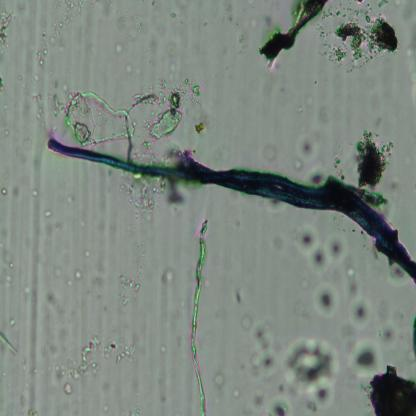Background material: (66, 72, 202, 151), (318, 5, 404, 76), (257, 0, 326, 71), (279, 332, 342, 408), (289, 221, 350, 280), (34, 0, 86, 67), (348, 121, 393, 197), (70, 334, 138, 382), (363, 363, 416, 416), (27, 204, 40, 407), (242, 315, 276, 383), (119, 170, 164, 218), (115, 9, 148, 56), (350, 338, 382, 382), (115, 267, 145, 308), (312, 283, 342, 318), (346, 297, 376, 329), (36, 290, 66, 321), (0, 5, 15, 57), (0, 321, 19, 358), (30, 89, 46, 131), (45, 332, 67, 362), (166, 176, 186, 209), (46, 87, 64, 122), (404, 42, 416, 93), (376, 321, 398, 348), (213, 0, 237, 24), (258, 138, 280, 163), (269, 397, 296, 416), (2, 250, 15, 288), (163, 44, 179, 70), (319, 101, 336, 125), (301, 134, 315, 162), (236, 30, 250, 57), (66, 268, 82, 289), (409, 309, 416, 355), (128, 390, 140, 416), (307, 170, 329, 184), (192, 119, 209, 137), (53, 361, 67, 382), (266, 198, 284, 214), (251, 388, 263, 410), (161, 266, 173, 288), (176, 0, 193, 14), (305, 90, 316, 110), (389, 179, 401, 195), (232, 286, 242, 304), (246, 16, 258, 31), (214, 371, 224, 388), (290, 156, 302, 170), (16, 0, 28, 13), (89, 274, 102, 286), (125, 62, 138, 74), (63, 381, 74, 395), (232, 386, 241, 400), (274, 239, 285, 250), (26, 406, 38, 416), (42, 207, 52, 219), (0, 75, 6, 93), (346, 266, 354, 279), (30, 188, 40, 198), (158, 344, 168, 353), (82, 250, 92, 258), (0, 186, 8, 195)
Cellulose filter fibre: (188, 219, 210, 416)
Cotton: (43, 138, 416, 285)
